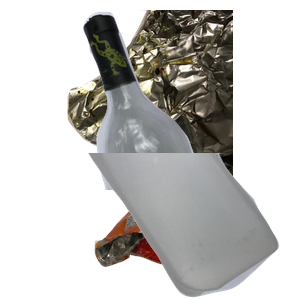glass: (81, 10, 300, 190)
metal: (60, 10, 300, 190)
plastic: (84, 153, 300, 300)
trash: (92, 174, 272, 300)
